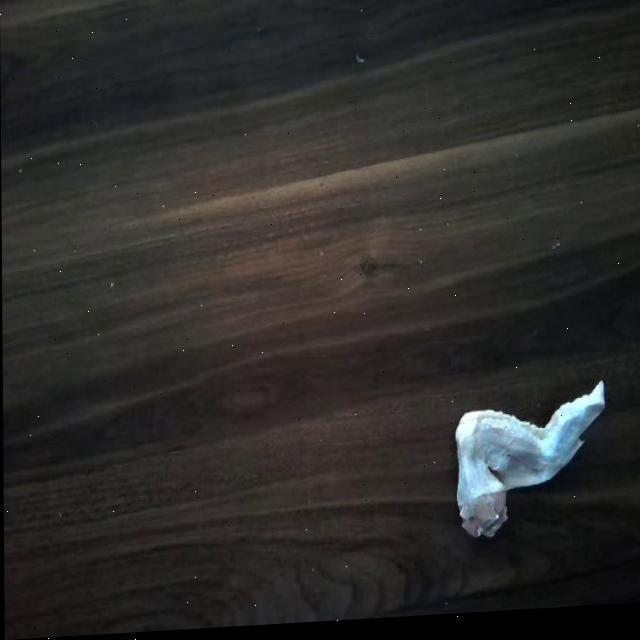wing: (450, 389, 606, 549)
